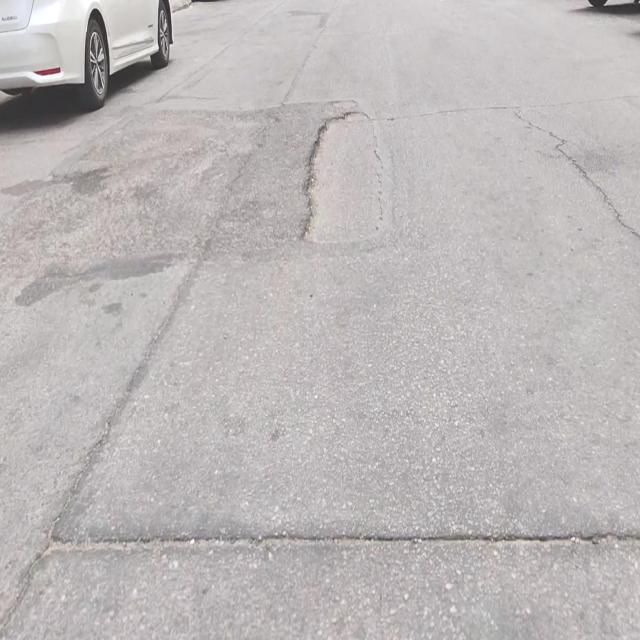Potholes: (300, 105, 383, 247)
